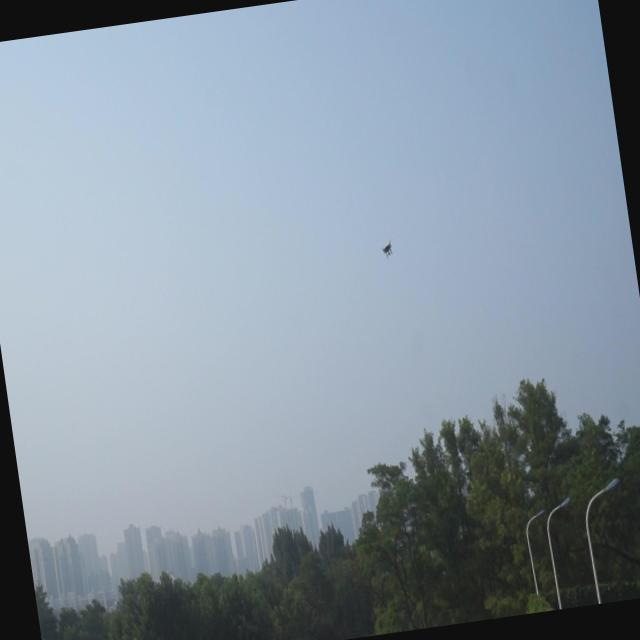drone: (376, 237, 397, 260)
